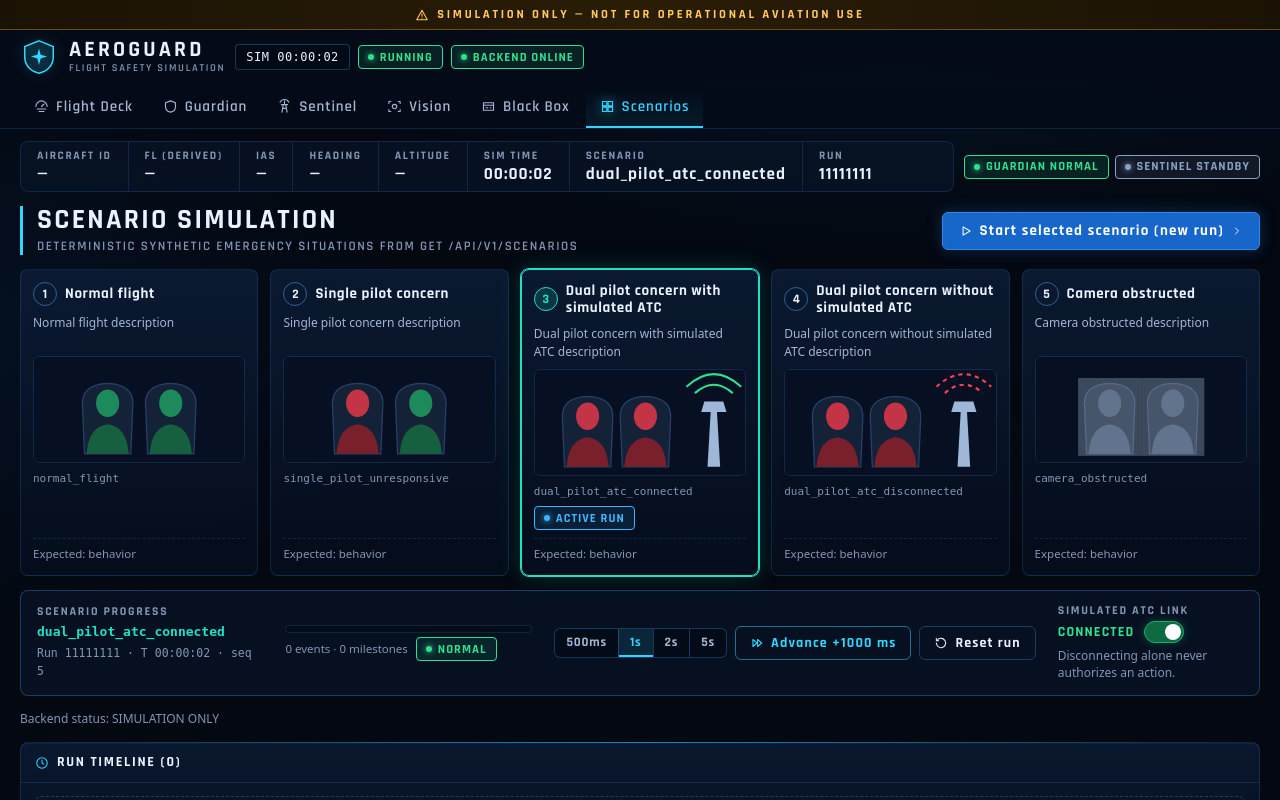
Test: review regressions › warns that a command hit by a 5xx may have executed
Click the button "Advance +1000 ms": (823,643) [735,626,912,660]
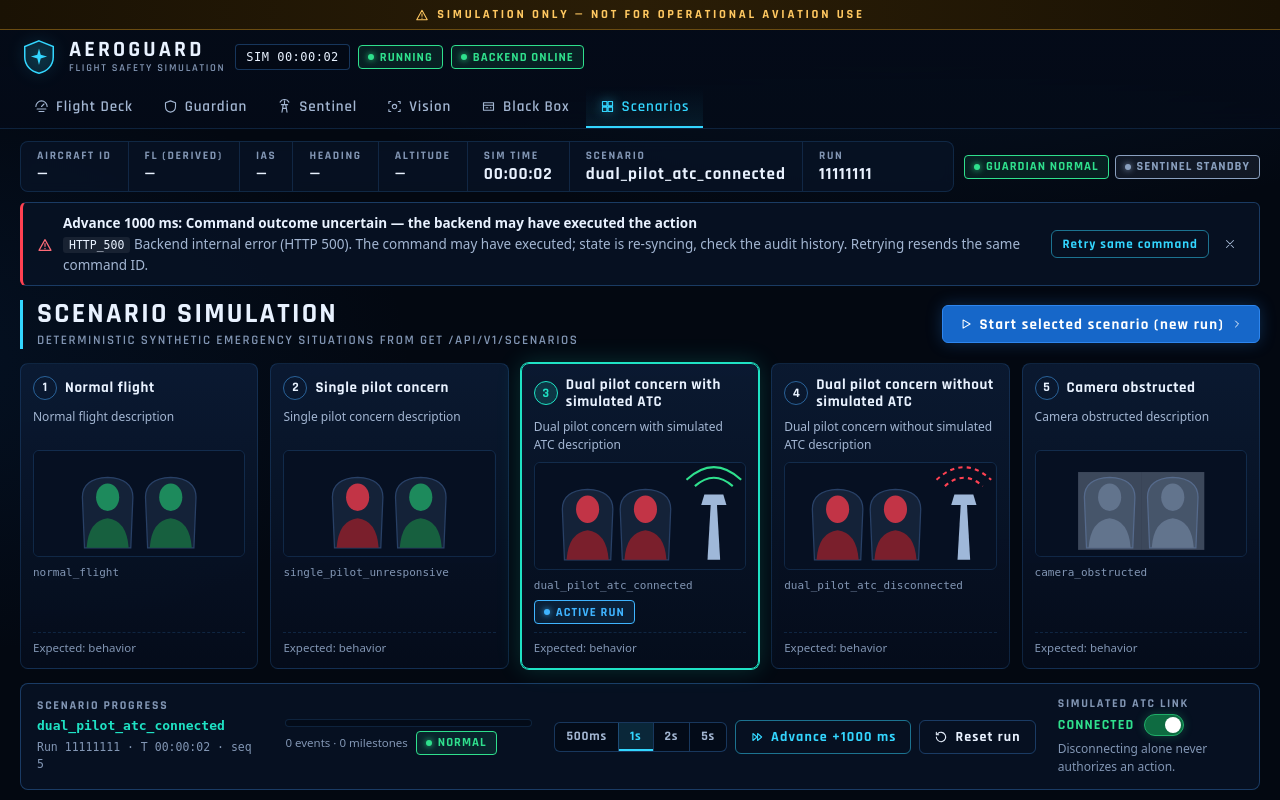
Expected: the text "The command may have executed" is shown, [63,235,1020,274]
